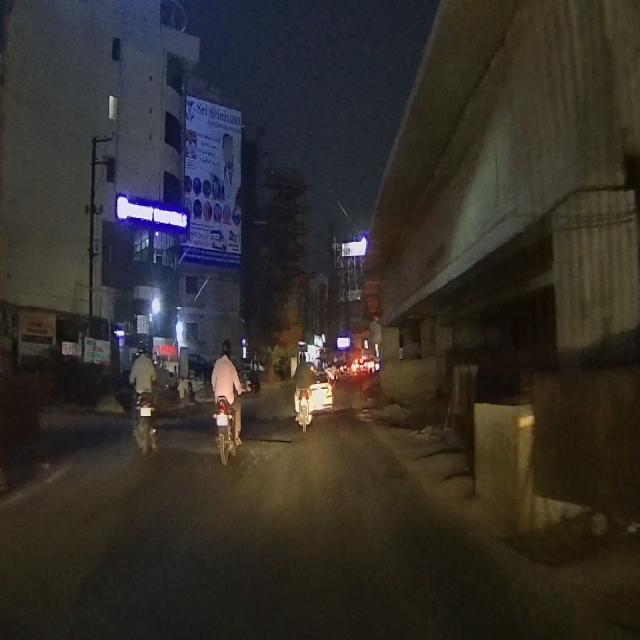motorcycle ahead at: (206, 386, 250, 466), (126, 379, 162, 455), (293, 378, 319, 434)
